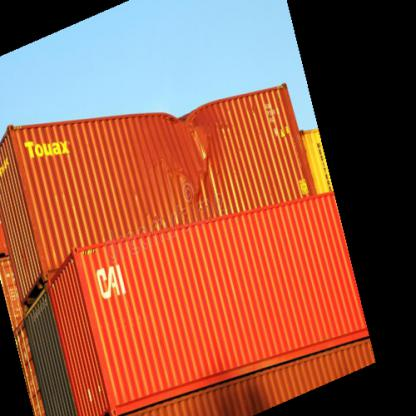Damage: (158, 109, 230, 185)
